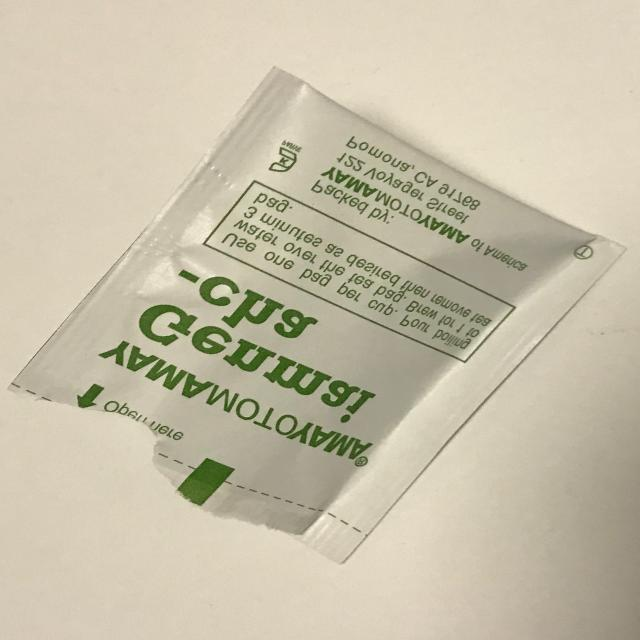trash: (7, 64, 628, 565)
